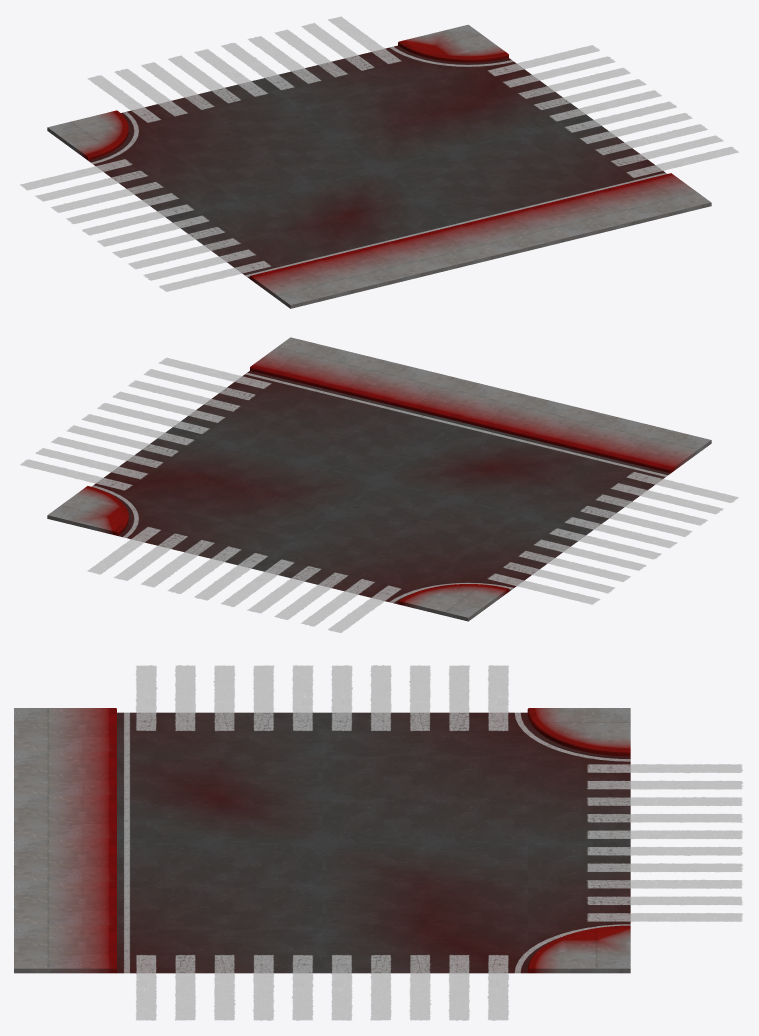
The model's file is Street_TIntersection.gltf.
3 views of the same model, one above another, from view 1: azimuth 30°, elevation 25°; view 2: azimuth 150°, elevation 25°; view 3: azimuth 270°, elevation 25° (orthographic). The views are drawn at different scales.
Visible parts, largest first — view 1: Street_TIntersection; view 2: Street_TIntersection; view 3: Street_TIntersection.
Part boxes in pixels (bbox=[...]): Street_TIntersection: bbox=[20, 16, 738, 308]; Street_TIntersection: bbox=[20, 337, 738, 632]; Street_TIntersection: bbox=[14, 665, 742, 1020].
Bounding box in the file's own units: 24.67 × 0.15 × 21.33.
3 materials, 3 textured.
